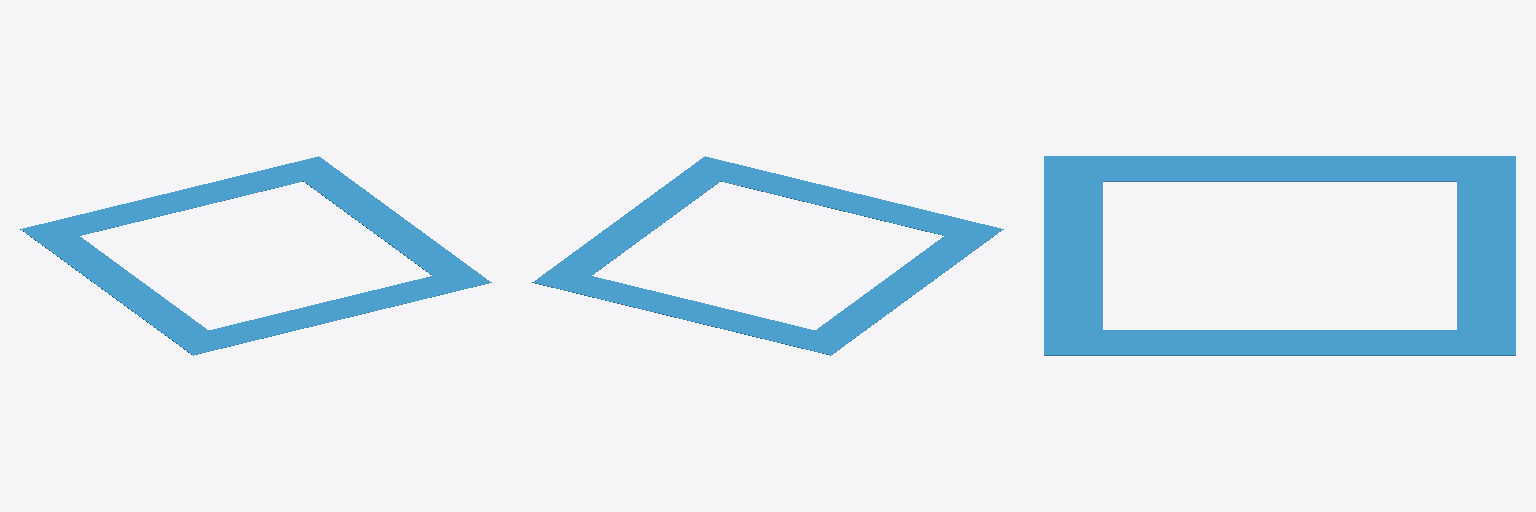
URDF robot description (marking_initial):
<?xml version="1.0"?>
<robot name="marking_initial">
  <link name="world"/>

  <link name="marking_initial_link">
    <inertial>
      <mass value="0.001"/>
      <origin xyz="0 0 0"/>
      <inertia ixx="0.00001" ixy="0" ixz="0" iyy="0.00001" iyz="0" izz="0.00001"/>
    </inertial>
    <visual>
      <geometry>
        <mesh filename="package://so101_description/meshes/marking.stl" scale="0.001 0.001 0.001"/>
      </geometry>
    </visual>
  </link>

  <joint name="world_to_marking" type="fixed">
    <parent link="world"/>
    <child link="marking_initial_link"/>
  </joint>

  <gazebo reference="marking_initial_link">
    <static>true</static>
    <material>Gazebo/Blue</material>
  </gazebo>
</robot>

--- What the picture shows (computed from the rendered views, not written in the file) ---
The picture shows the robot from 3 angles, left to right: view 1: azimuth 30°, elevation 25°; view 2: azimuth 150°, elevation 25°; view 3: azimuth 270°, elevation 25°; orthographic projection.
Model marking_initial with 2 links and 1 joints (1 fixed), rooted at world, posed all joints at 0.
Links seen in each view (by area): view 1: marking_initial_link; view 2: marking_initial_link; view 3: marking_initial_link.
Boxes of the visible links, box(x1,y1,x2,y2) form: marking_initial_link: box(20, 156, 491, 355); marking_initial_link: box(532, 156, 1003, 355); marking_initial_link: box(1044, 156, 1515, 355).
Size in the robot's own frame: 0.08 by 0.08 by 0.0001 metres.
Meshes: 1 distinct files referenced, 1 mesh visuals loaded (1 binary STL).
